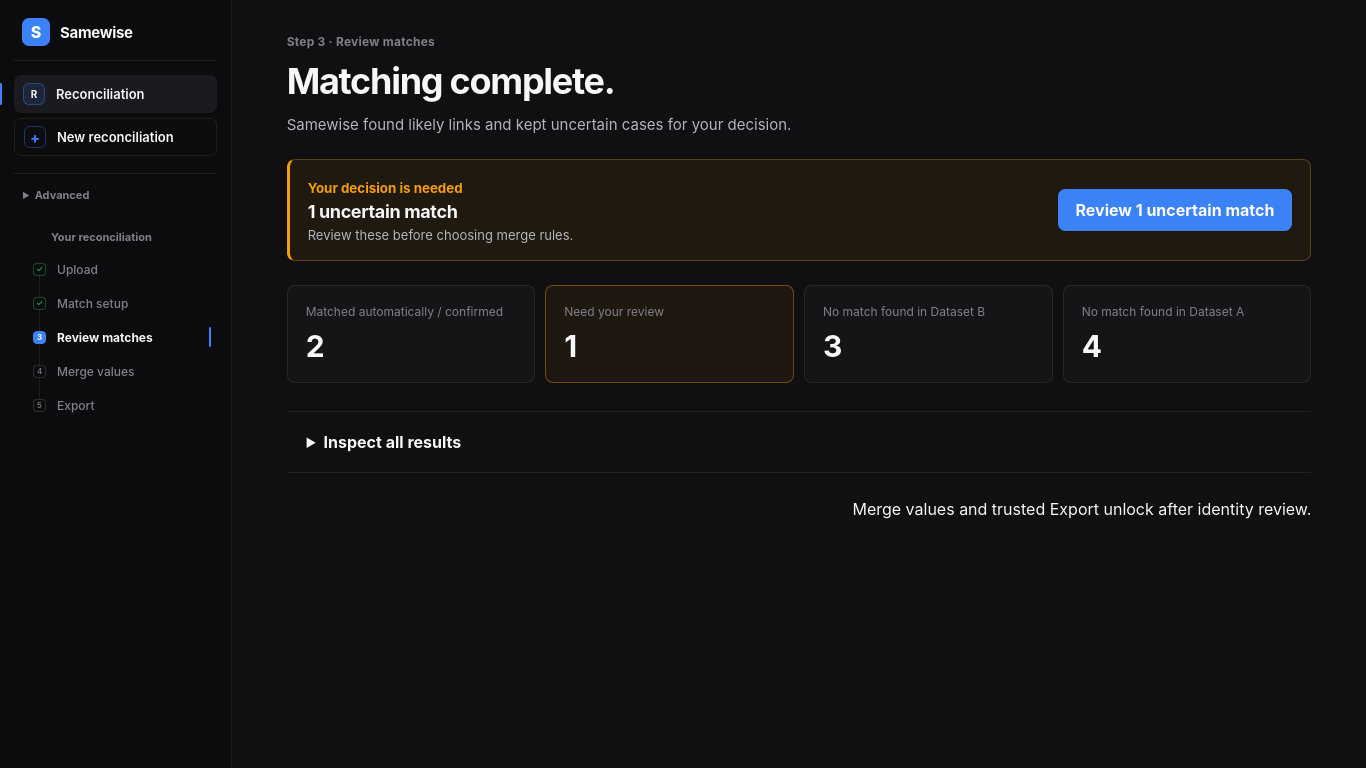
Test: Samewise vertical slice › navigates between reconciliation and the dedicated Matching quality product
Click the heading "Advanced" at (62, 195), box x1=35 y1=188 x2=89 y2=202
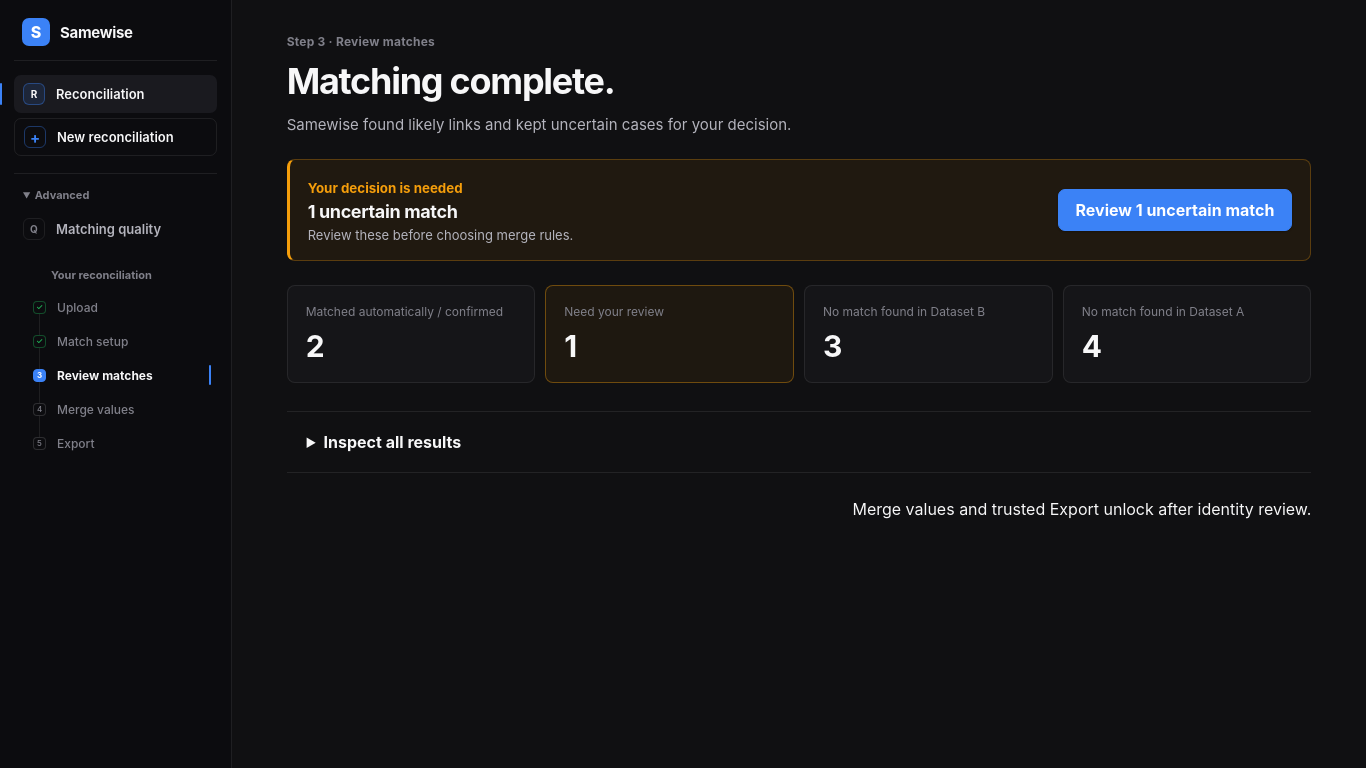
Click the button "Q Matching quality" at (116, 229), box x1=14 y1=210 x2=217 y2=248
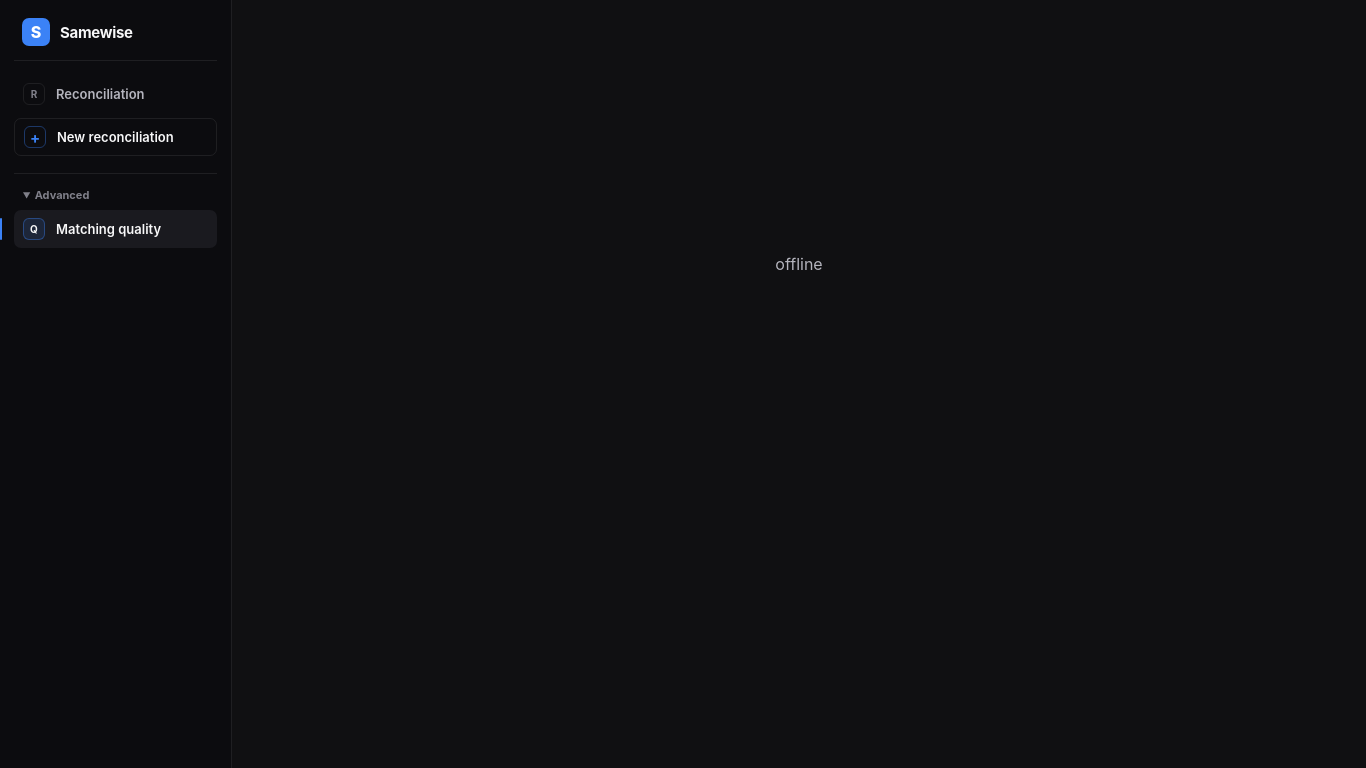
Expected: the element with class "evaluation-layout" is shown
Expected: the text "offline" is shown, x1=775 y1=254 x2=823 y2=274
Click the button "R Reconciliation" at (116, 94), box x1=14 y1=75 x2=217 y2=113
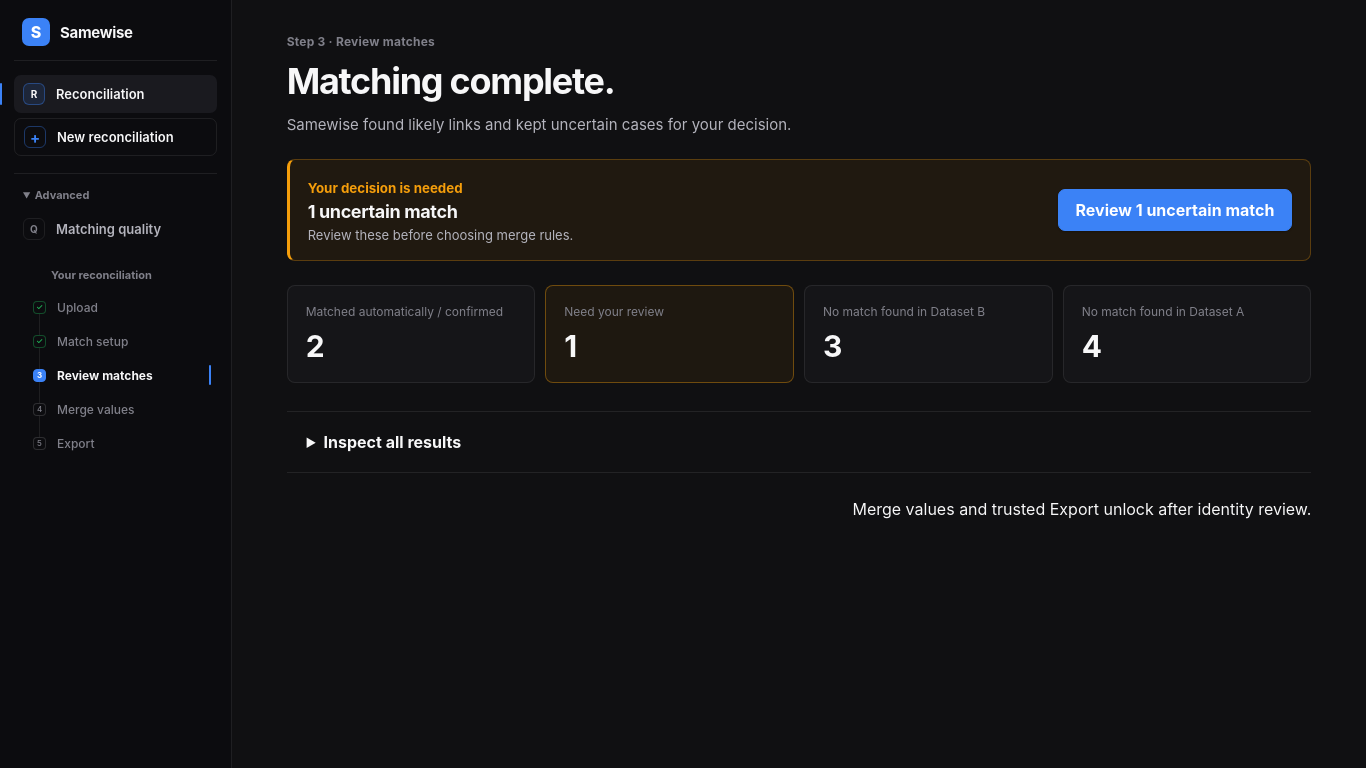
Expected: the heading "Matching complete." is shown, x1=287 y1=59 x2=614 y2=103
